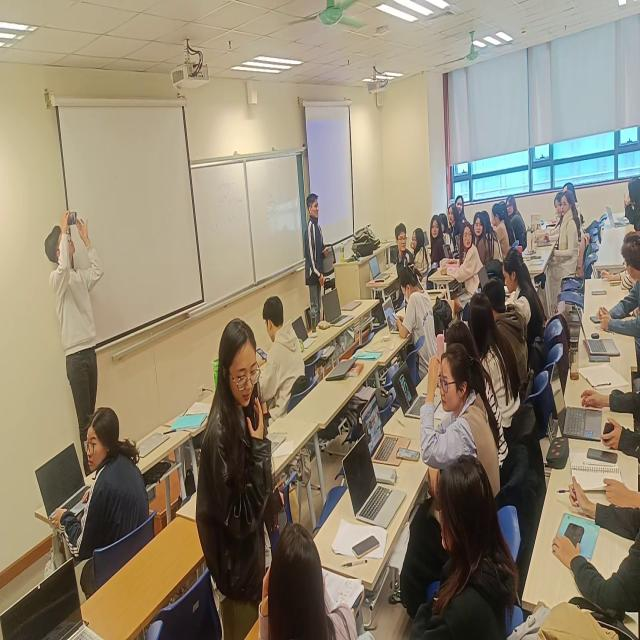raise_head: (412, 455, 514, 640), (266, 513, 346, 640)
stand: (197, 315, 274, 640), (45, 203, 107, 447), (304, 190, 331, 327)
using_phone: (257, 292, 310, 406), (393, 259, 439, 371), (621, 172, 640, 227)
